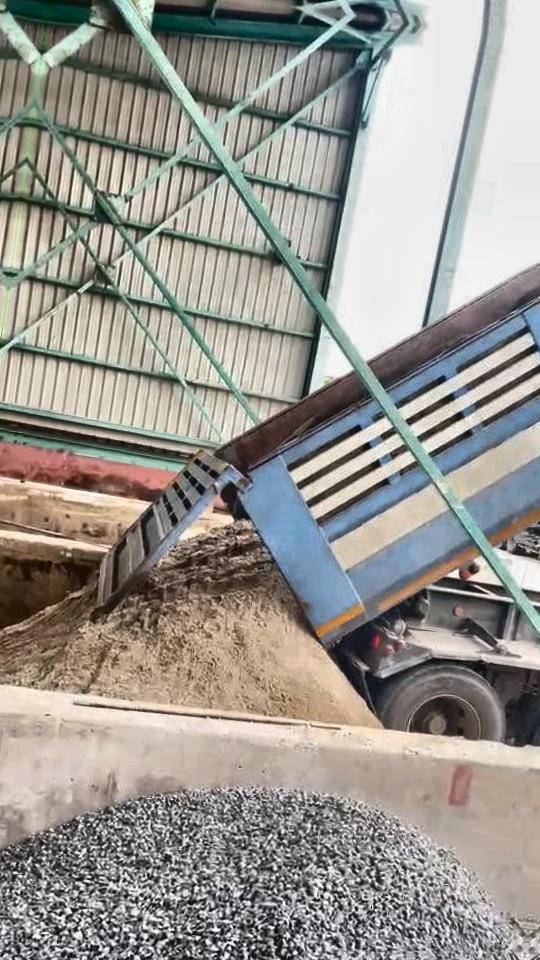gravel: (0, 791, 526, 960)
sand: (0, 522, 380, 727)
